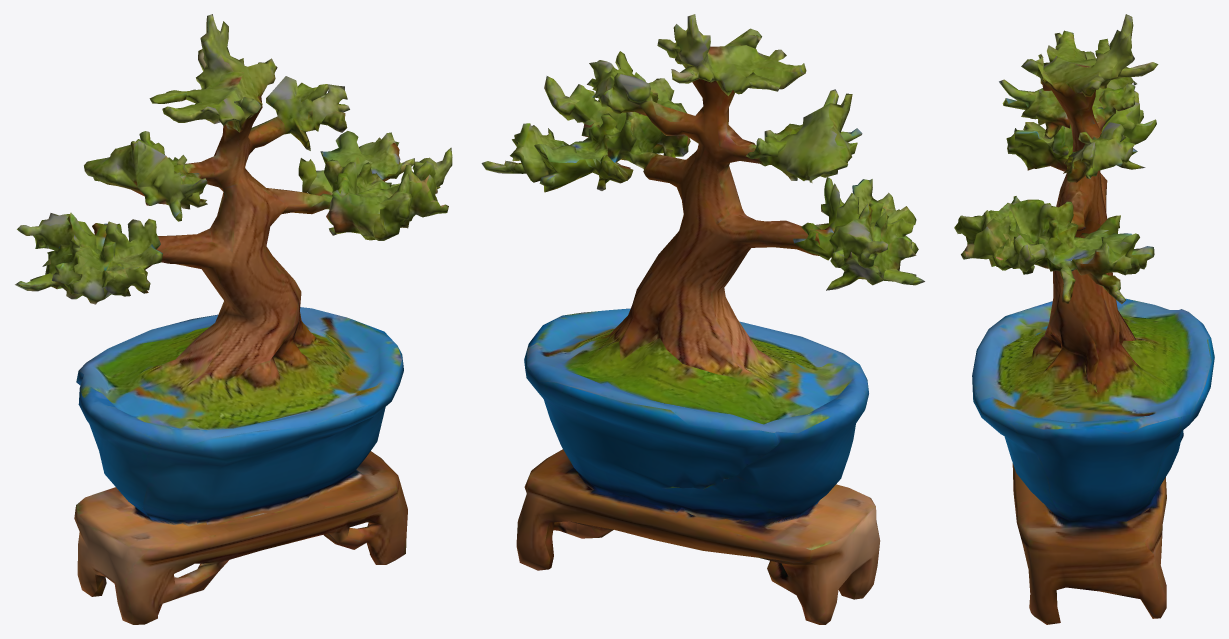
File: prop_bonsai_tree.glb
The picture shows the model from 3 angles, left to right: view 1: azimuth 30°, elevation 25°; view 2: azimuth 150°, elevation 25°; view 3: azimuth 270°, elevation 25°; orthographic projection. The views are drawn at different scales.
Visible parts, largest first — view 1: geometry_0; view 2: geometry_0; view 3: geometry_0.
Boxes of the visible parts, left/top/right/bottom form: geometry_0: left=15, top=14, right=452, bottom=624; geometry_0: left=481, top=14, right=924, bottom=624; geometry_0: left=954, top=14, right=1214, bottom=624.
Size of the model in its own units: 1.09 by 1.41 by 0.6128.
1 material, 1 textured.
